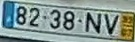2: (28, 6, 40, 27)
3: (48, 8, 62, 29)
8: (62, 9, 75, 31), (14, 5, 27, 25)
N: (84, 11, 102, 34)
V: (103, 13, 120, 35)
